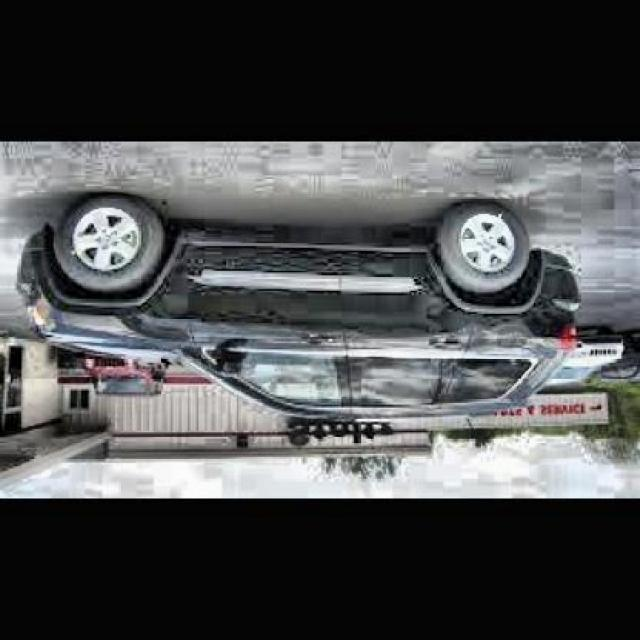black: (27, 229, 584, 420)
